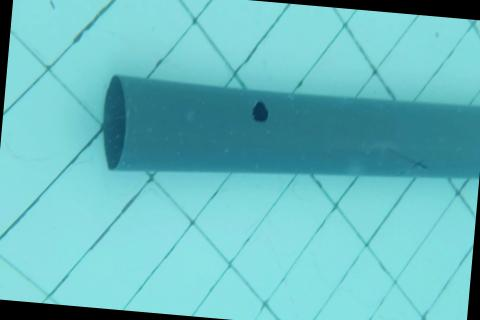kebocoran: (250, 98, 271, 125)
keretakan: (392, 149, 431, 172)
